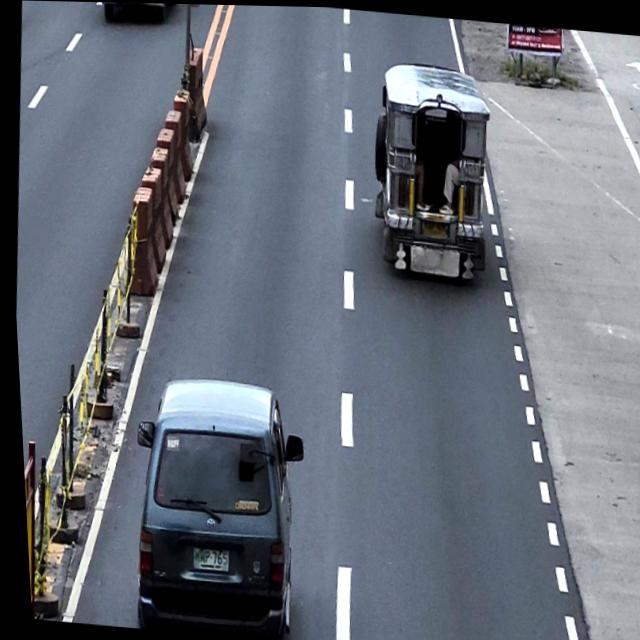Car: (114, 371, 314, 640), (97, 2, 181, 27)
Jeep: (360, 57, 500, 287)
License-Plate: (184, 545, 225, 573), (416, 217, 447, 239)
